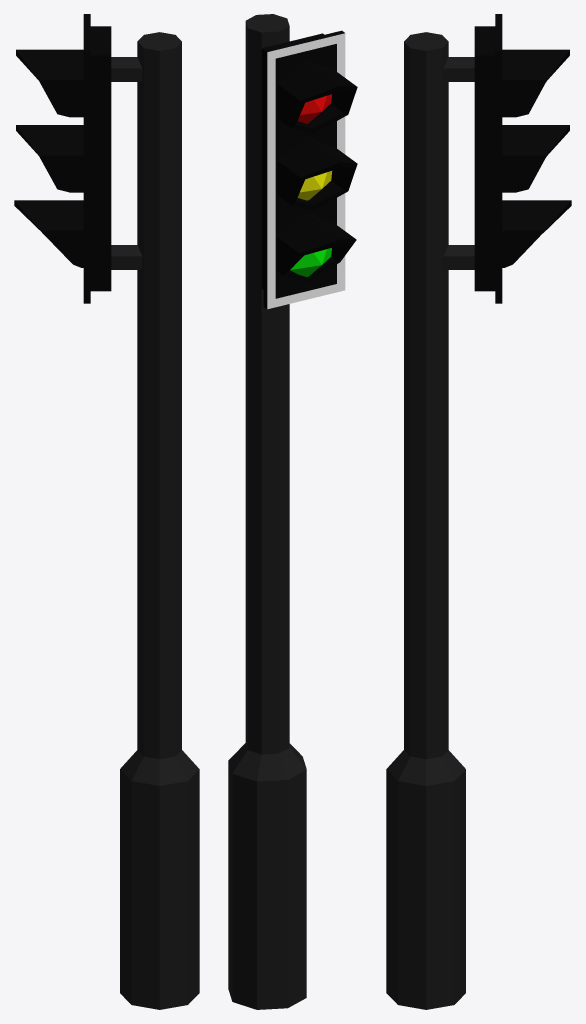
Rendered from Traffic Light.obj.
The picture shows the model from 3 angles, left to right: view 1: azimuth 90°, elevation 25°; view 2: azimuth 210°, elevation 25°; view 3: azimuth 270°, elevation 25°; orthographic projection.
Parts seen in each view (by area): view 1: Pole.002_Cylinder.001, Lightbox_Cube, Light_Holder.002_Cylinder.009, Light_Holder.001_Cylinder.008, Light_Holder_Cylinder.007, Holder_Pole_Cylinder.005, Holder_Pole.001_Cylinder.006; view 2: Pole.002_Cylinder.001, Lightbox_Cube, Light_Holder.002_Cylinder.009, Light_Holder.001_Cylinder.008, Light_Holder_Cylinder.007, Green_Icosphere, Amber_Icosphere.001, Red_Icosphere.002; view 3: Pole.002_Cylinder.001, Lightbox_Cube, Light_Holder.002_Cylinder.009, Light_Holder.001_Cylinder.008, Light_Holder_Cylinder.007, Holder_Pole_Cylinder.005, Holder_Pole.001_Cylinder.006.
Part boxes in pixels (<box>): Pole.002_Cylinder.001: <box>120,32,199,1009</box>; Lightbox_Cube: <box>83,14,111,303</box>; Light_Holder.002_Cylinder.009: <box>16,49,83,117</box>; Light_Holder.001_Cylinder.008: <box>16,125,83,192</box>; Light_Holder_Cylinder.007: <box>14,200,83,267</box>; Holder_Pole_Cylinder.005: <box>111,57,142,81</box>; Holder_Pole.001_Cylinder.006: <box>111,245,142,269</box>; Pole.002_Cylinder.001: <box>228,14,306,1009</box>; Lightbox_Cube: <box>261,30,345,309</box>; Light_Holder.002_Cylinder.009: <box>277,60,357,133</box>; Light_Holder.001_Cylinder.008: <box>277,137,357,210</box>; Light_Holder_Cylinder.007: <box>277,213,356,283</box>; Green_Icosphere: <box>290,248,331,276</box>; Amber_Icosphere.001: <box>297,171,332,200</box>; Red_Icosphere.002: <box>297,94,331,123</box>; Pole.002_Cylinder.001: <box>386,32,465,1009</box>; Lightbox_Cube: <box>474,14,502,303</box>; Light_Holder.002_Cylinder.009: <box>502,49,569,117</box>; Light_Holder.001_Cylinder.008: <box>502,125,569,192</box>; Light_Holder_Cylinder.007: <box>502,200,571,267</box>; Holder_Pole_Cylinder.005: <box>443,57,474,81</box>; Holder_Pole.001_Cylinder.006: <box>443,245,474,269</box>.
Bounding box in the file's own units: 1.28 × 15.33 × 2.68.
